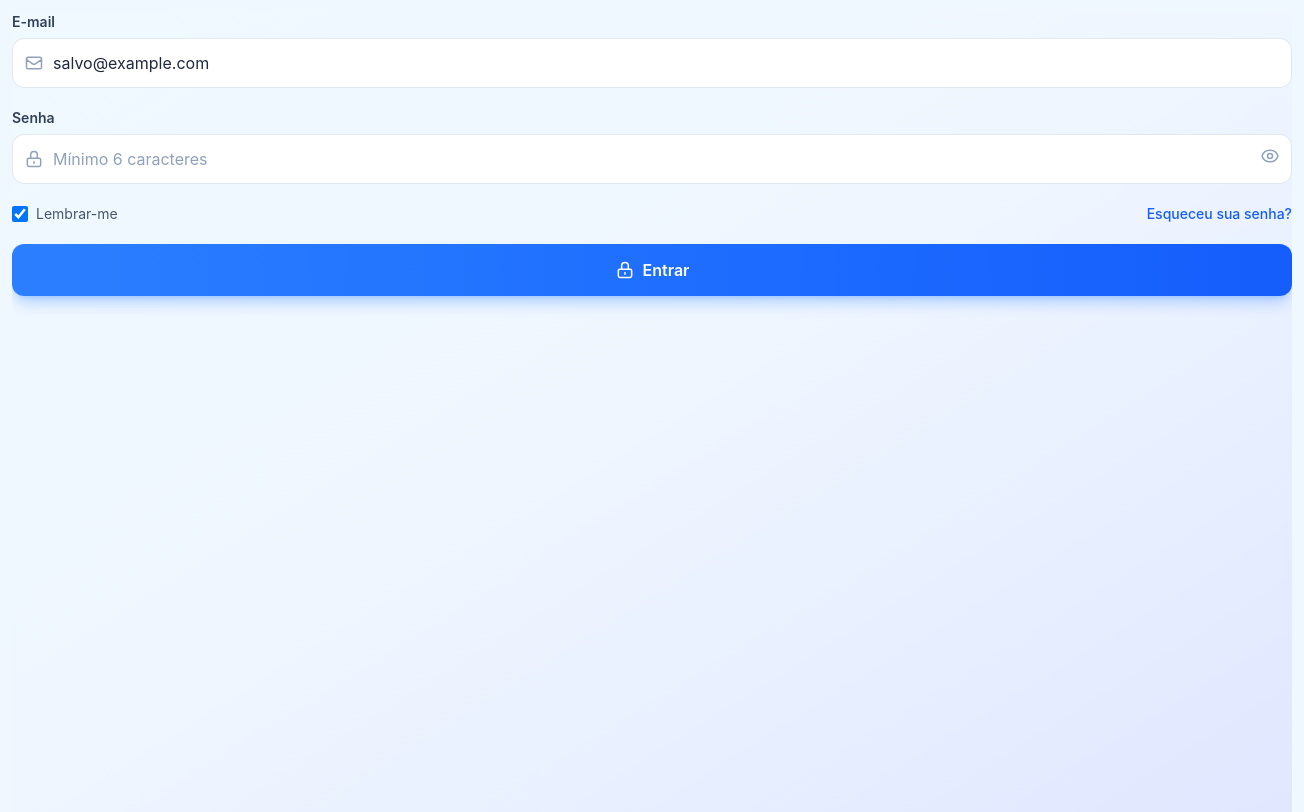
Test case: LoginForm › exibe erro quando login falha
Type "123456" into the password field labelled "Senha".
click(652, 159); type("123456")  # box [12,134,1292,184]
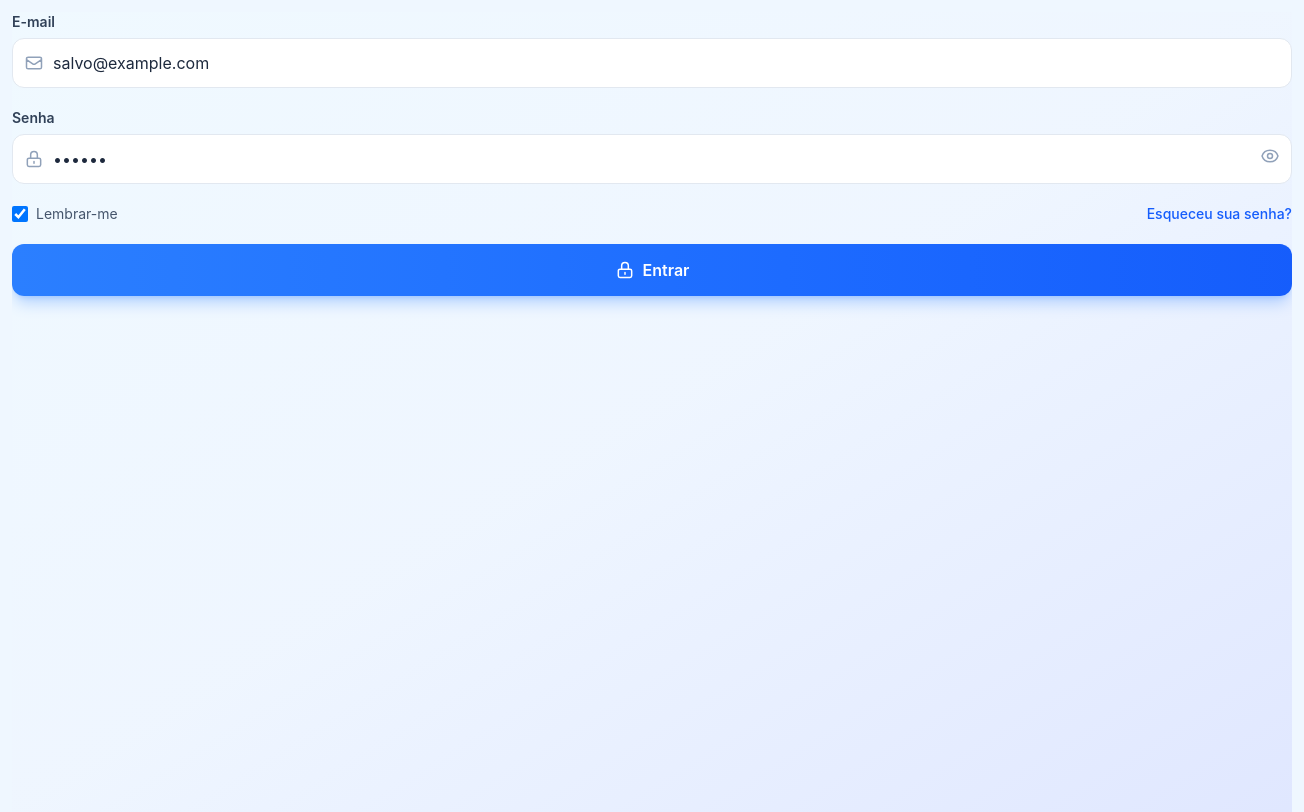
Click the button "Entrar".
click(652, 270)  # box [12,244,1292,296]
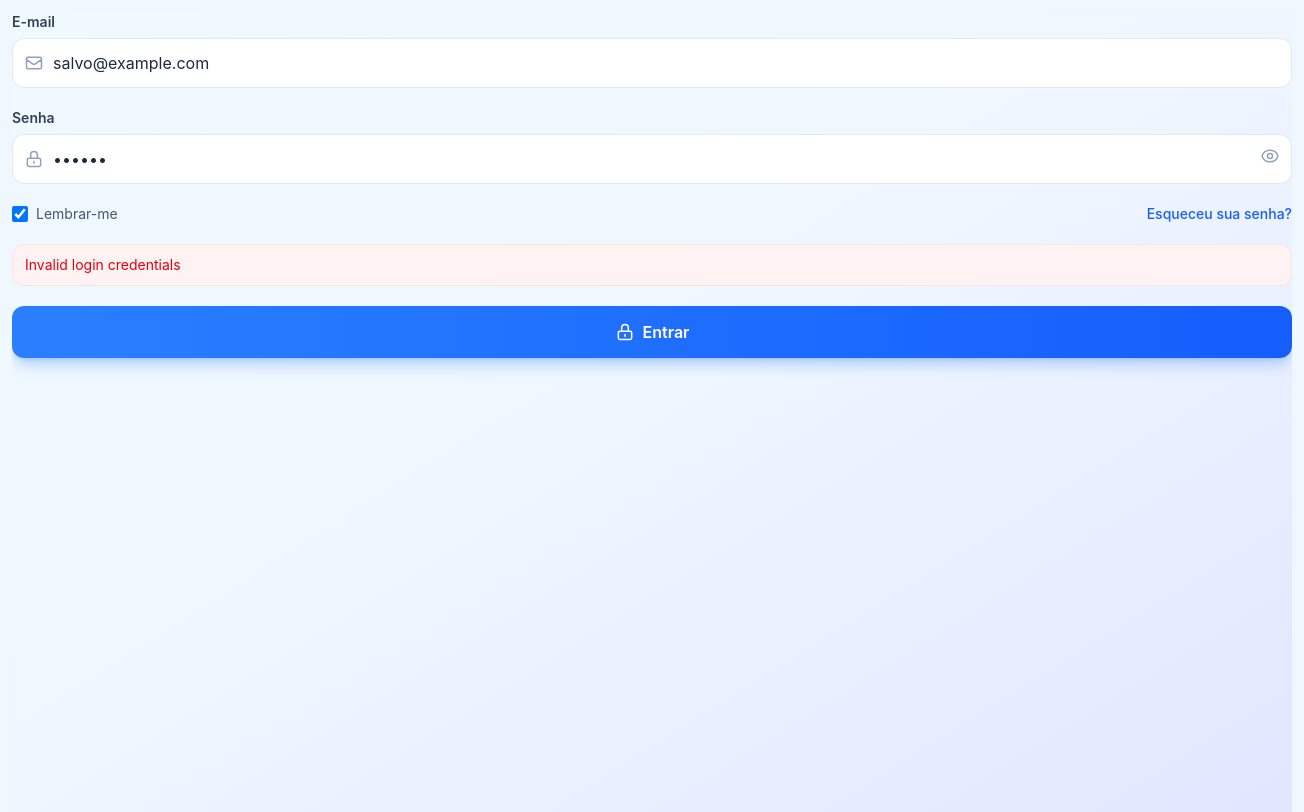
Expected: the text "Invalid login credentials" is shown, [12,244,1292,286]
